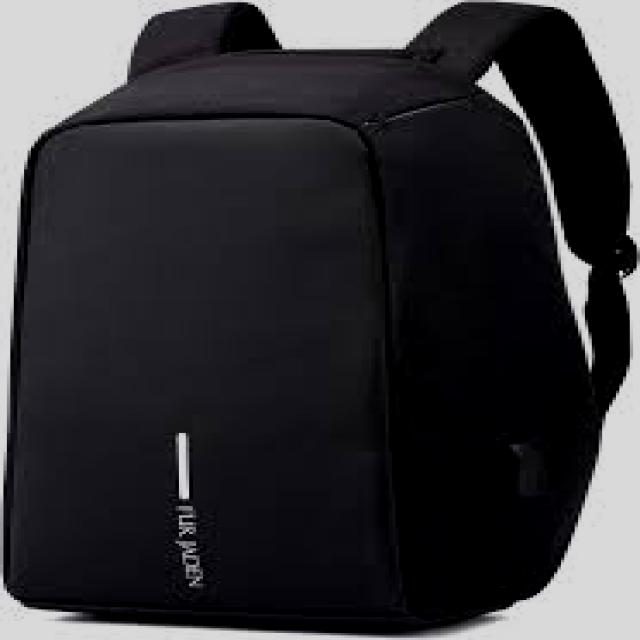backpack: (2, 2, 638, 632)
